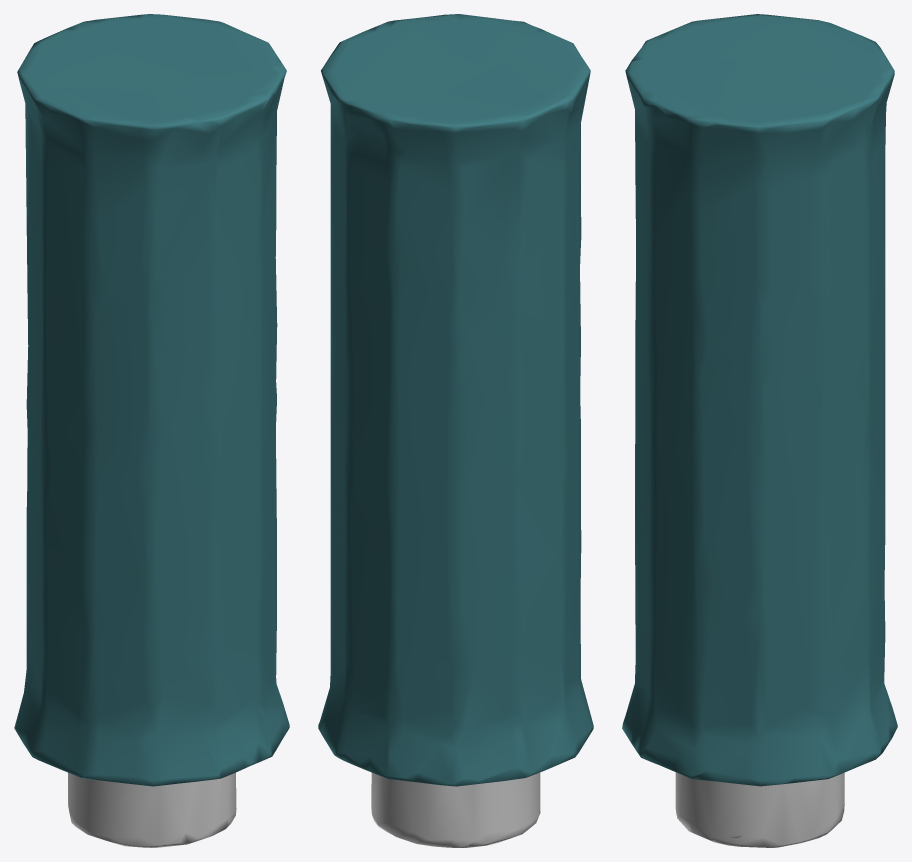
Rendered from gen3d-tube-lod0.glb.
3 renders of one model, left to right at view 1: azimuth 30°, elevation 25°; view 2: azimuth 150°, elevation 25°; view 3: azimuth 270°, elevation 25°, orthographic.
Visible parts, largest first — view 1: part_0; view 2: part_0; view 3: part_0.
Boxes of the visible parts, bbox=[...] form: part_0: bbox=[14, 14, 289, 847]; part_0: bbox=[318, 14, 593, 847]; part_0: bbox=[622, 14, 897, 847].
Bounding box in the file's own units: 0.3363 × 1 × 0.3361.
